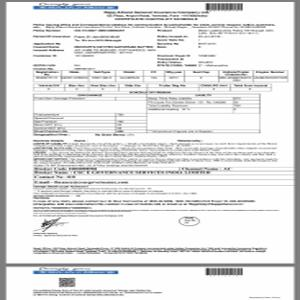table: (32, 94, 261, 134), (32, 69, 289, 83), (33, 83, 272, 92)
text: (32, 22, 278, 68), (36, 139, 283, 163), (33, 243, 268, 258), (105, 9, 211, 21)
